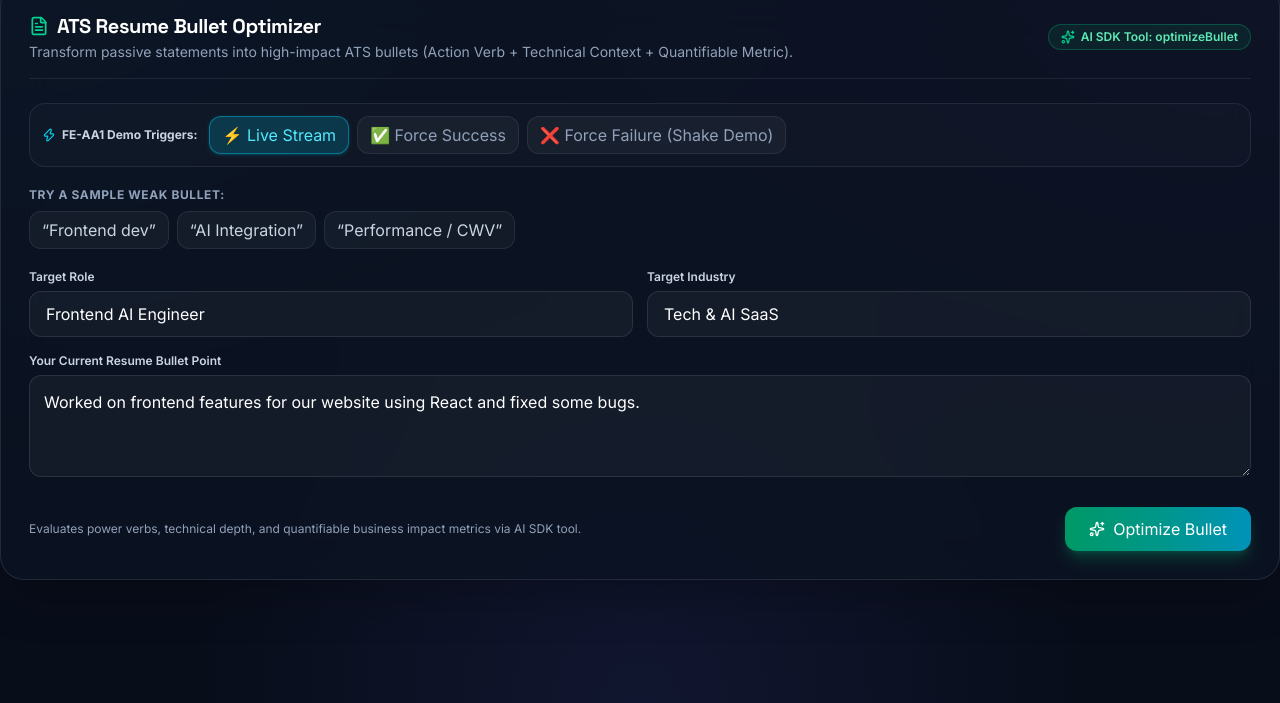
Test: ResumeOptimizer Component (FE-07 AI SDK Tool Flow) › submits request and renders output-available state with structured result
Click the button "Optimize Bullet" at x=1158, y=529, box top-left (1065, 507), bottom-right (1251, 551)
(page scrolled)
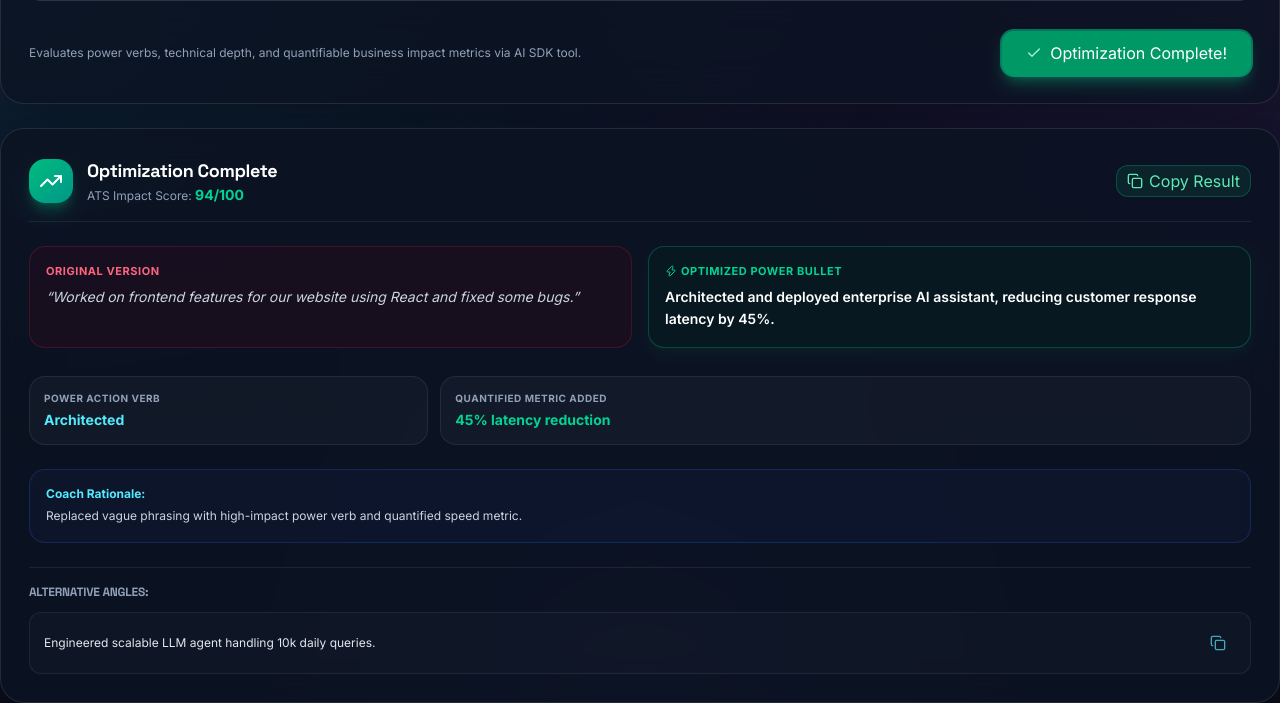
Check: the element with test id "tool-state-output-available" is shown
Check: the heading "Optimization Complete" is shown, box top-left (87, 157), bottom-right (277, 185)
Check: the text "94/100" is shown, box top-left (195, 186), bottom-right (244, 203)
